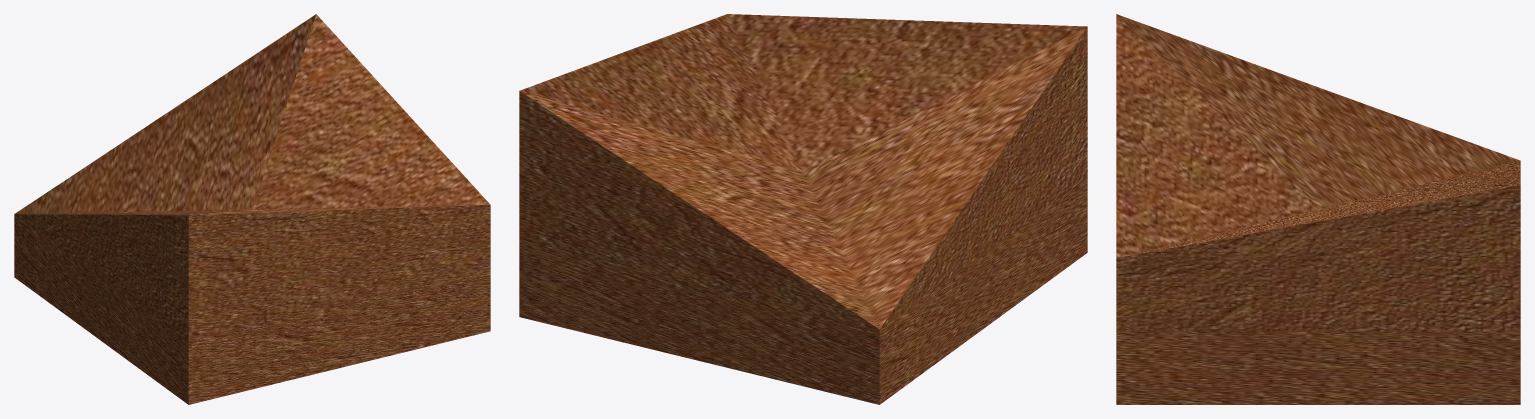
Rendered from Map0212.fbx.
The picture shows the model from 3 angles, left to right: view 1: azimuth 30°, elevation 25°; view 2: azimuth 150°, elevation 25°; view 3: azimuth 270°, elevation 25°; orthographic projection. The views are drawn at different scales.
Parts seen in each view (by area): view 1: Map0212, Map0000; view 2: Map0212, Map0000; view 3: Map0212, Map0000.
Boxes of the visible parts, left/top/right/bottom form: Map0212: left=14, top=14, right=490, bottom=341; Map0000: left=14, top=214, right=490, bottom=404; Map0212: left=519, top=14, right=1087, bottom=329; Map0000: left=519, top=177, right=1087, bottom=404; Map0212: left=1116, top=14, right=1520, bottom=331; Map0000: left=1116, top=331, right=1520, bottom=404.
Bounding box in the file's own units: 200 × 120 × 200.
Materials: 2 (2 with a texture image).
